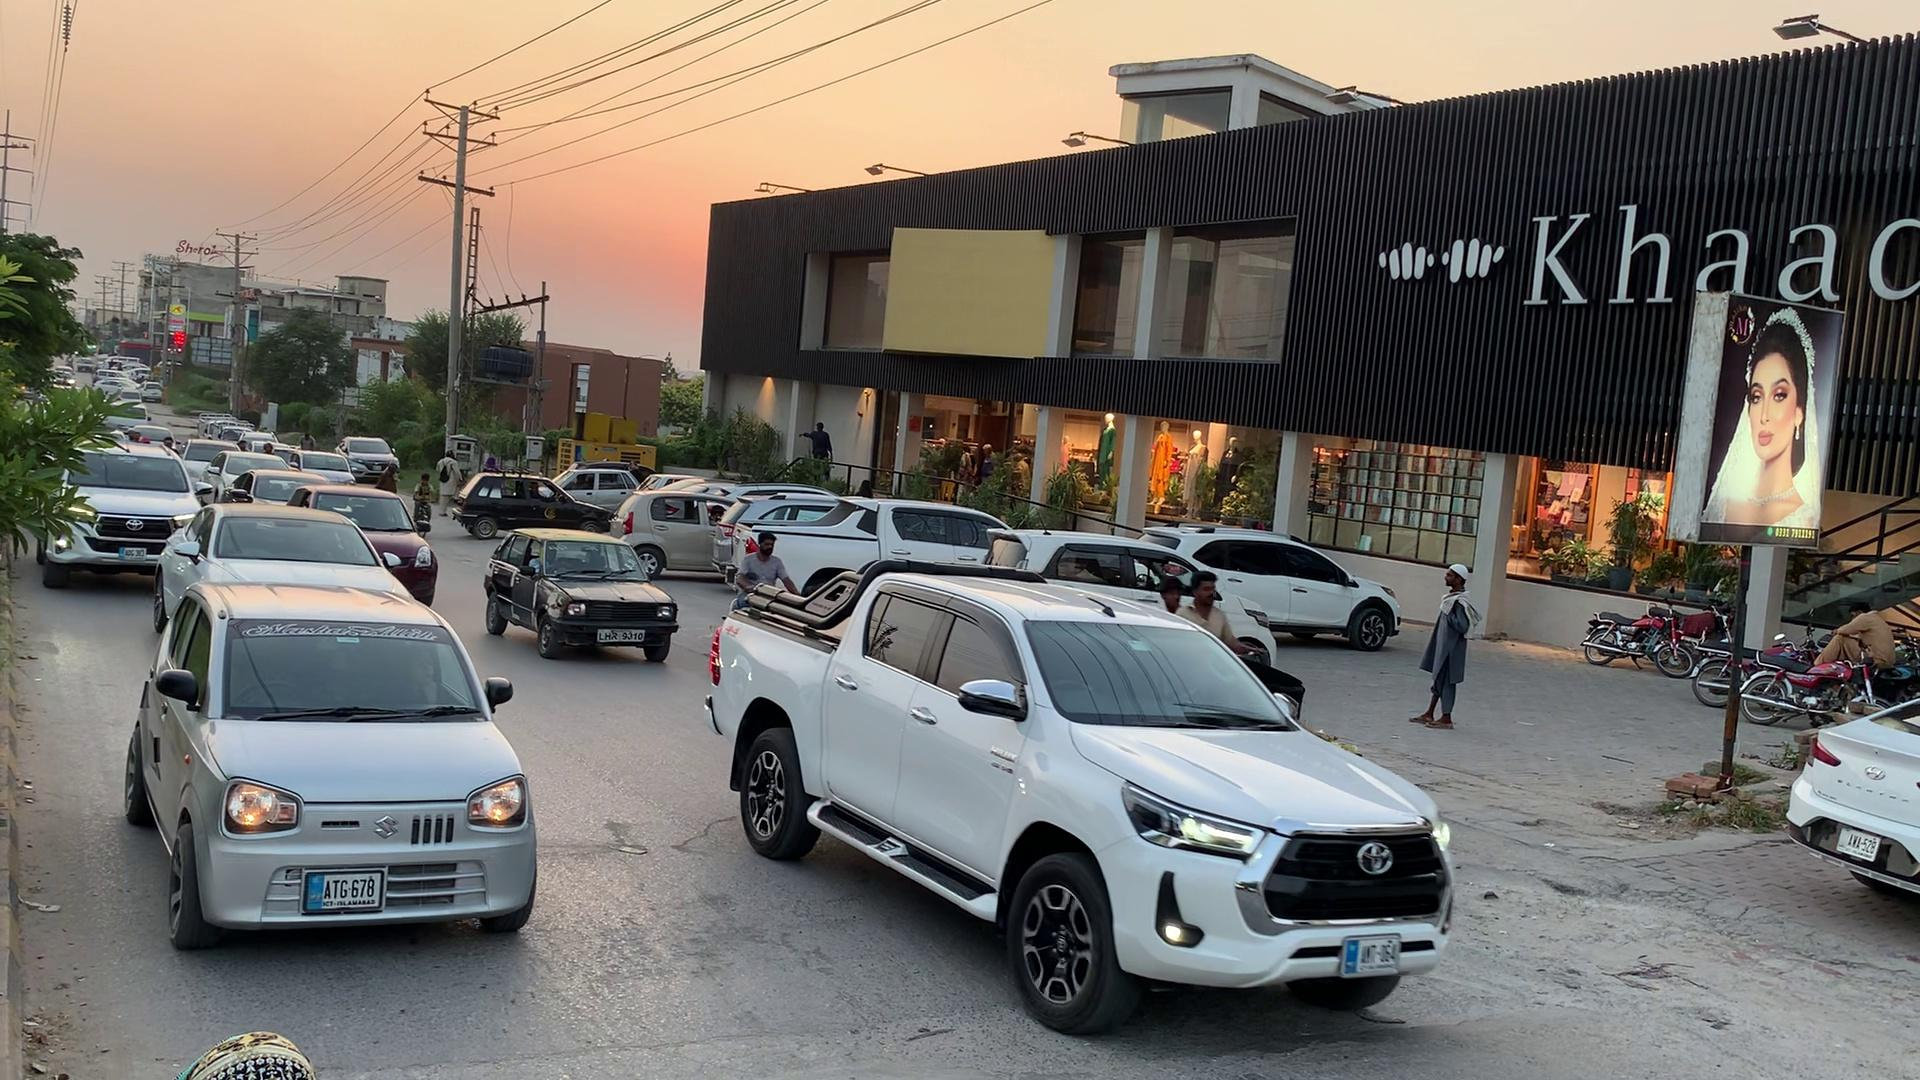windshield: (1013, 608, 1305, 735), (218, 612, 496, 727), (542, 535, 651, 589)
